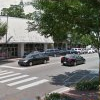crosswalk: (0, 69, 50, 89)
